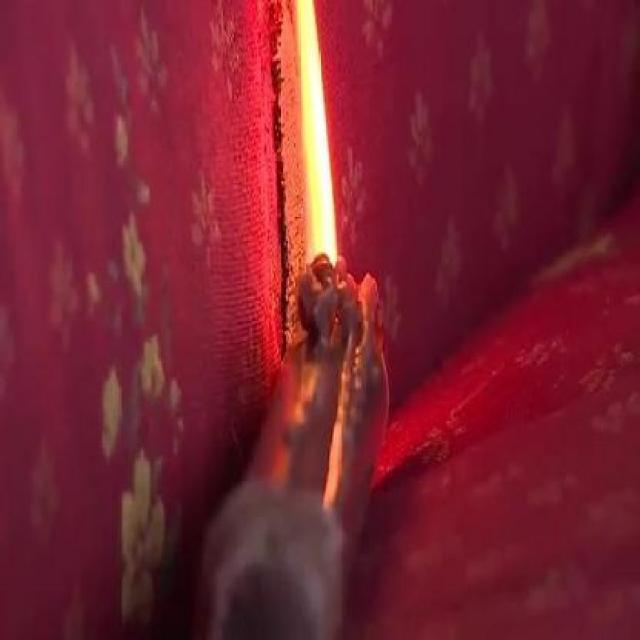fire: (286, 2, 362, 258)
